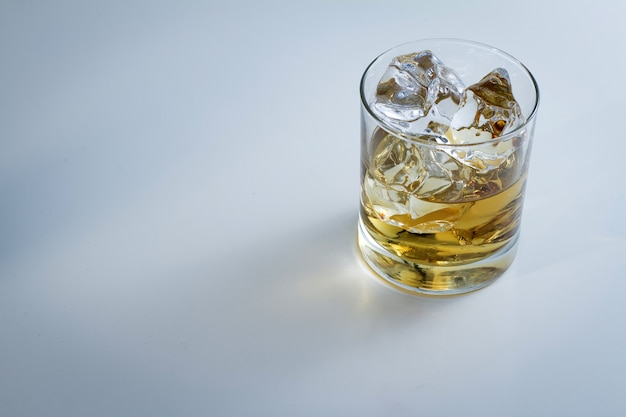alcohol: (358, 36, 541, 299)
